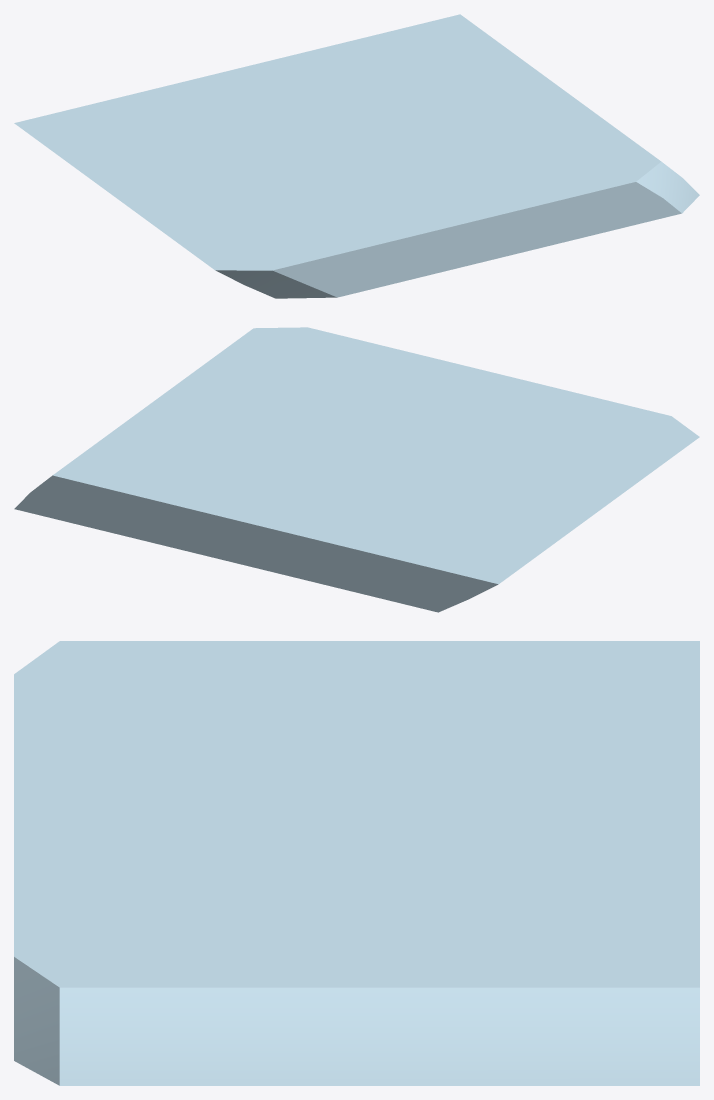
The model's file is STAM - S3.gltf.
3 renders of one model, top to bottom at view 1: azimuth 30°, elevation 25°; view 2: azimuth 150°, elevation 25°; view 3: azimuth 270°, elevation 25°, orthographic. The views are drawn at different scales.
Visible parts, largest first — view 1: S3; view 2: S3; view 3: S3.
Boxes of the visible parts, <box> form: S3: <box>14,14,699,298</box>; S3: <box>14,327,699,612</box>; S3: <box>14,641,699,1085</box>.
Bounding box in the file's own units: 0.0195 × 0.00165 × 0.015.
